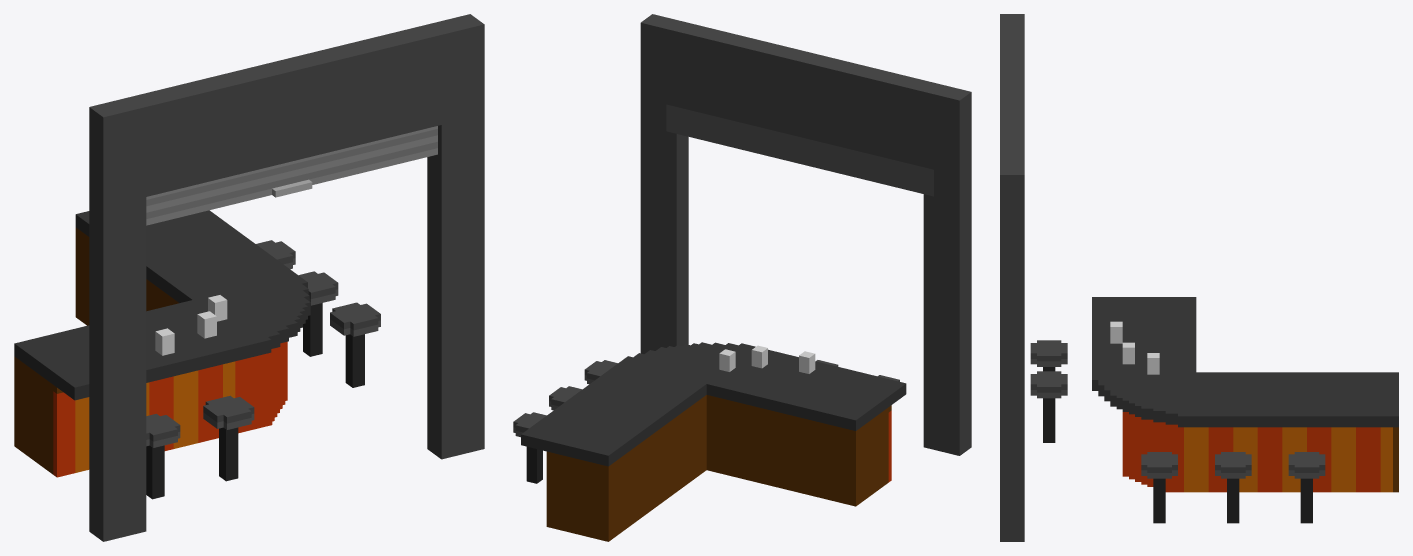
The model's file is barTwo.glb.
3 views of the same model, side by side, from view 1: azimuth 30°, elevation 25°; view 2: azimuth 150°, elevation 25°; view 3: azimuth 270°, elevation 25° (orthographic). The views are drawn at different scales.
Visible parts, largest first — view 1: ObjObject; view 2: ObjObject; view 3: ObjObject.
Part boxes in pixels (x1,y1,x2,y2): ObjObject: (14,14,484,541); ObjObject: (513,14,971,541); ObjObject: (1000,14,1398,541).
Bounding box in the file's own units: 6.2 × 6.6 × 6.5.
1 material, 1 textured.
